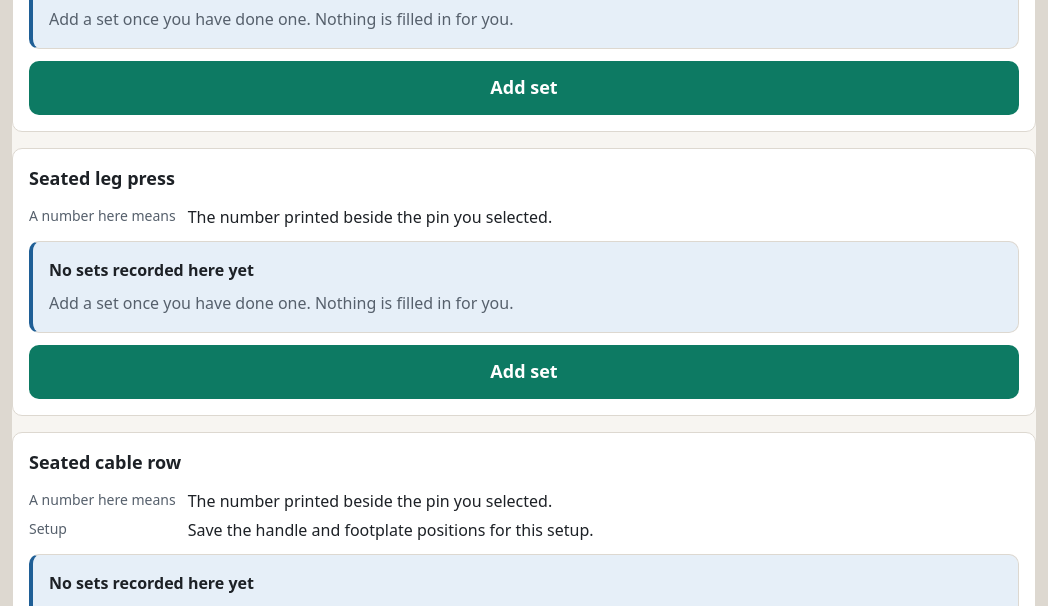
handing ownership back › follows the database when the user has made no edit at all
(page scrolled)
Expected: the heading "Seated leg press" is shown, x1=29 y1=166 x2=175 y2=190
Click the 2nd button "Add set" at (524, 372), box x1=29 y1=345 x2=1019 y2=399
(page scrolled)
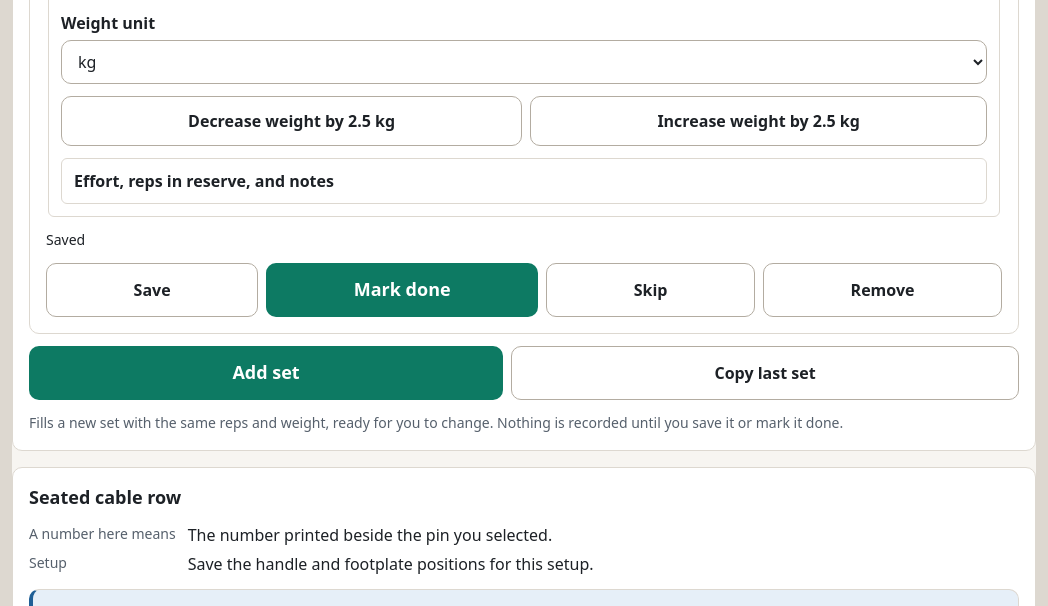
Click the button "Add set" below "Effort, reps in reserve, and notes" at (266, 373), box x1=29 y1=346 x2=503 y2=400
(page scrolled)
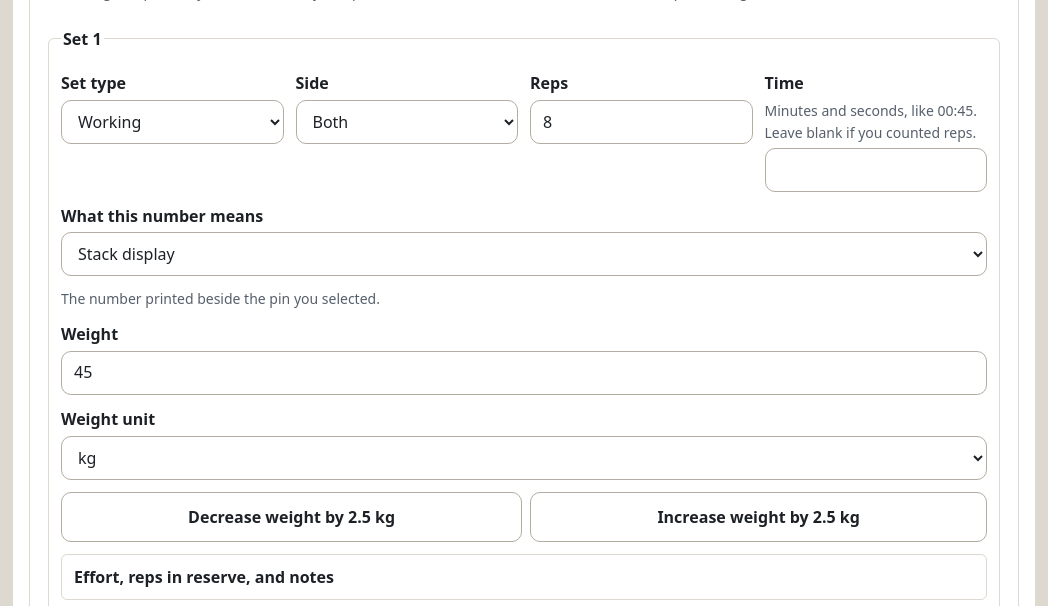
Now the field labelled "Reps" holds "8", box x1=530 y1=100 x2=752 y2=144
Now the field labelled "Weight" holds "45", box x1=61 y1=351 x2=987 y2=395
